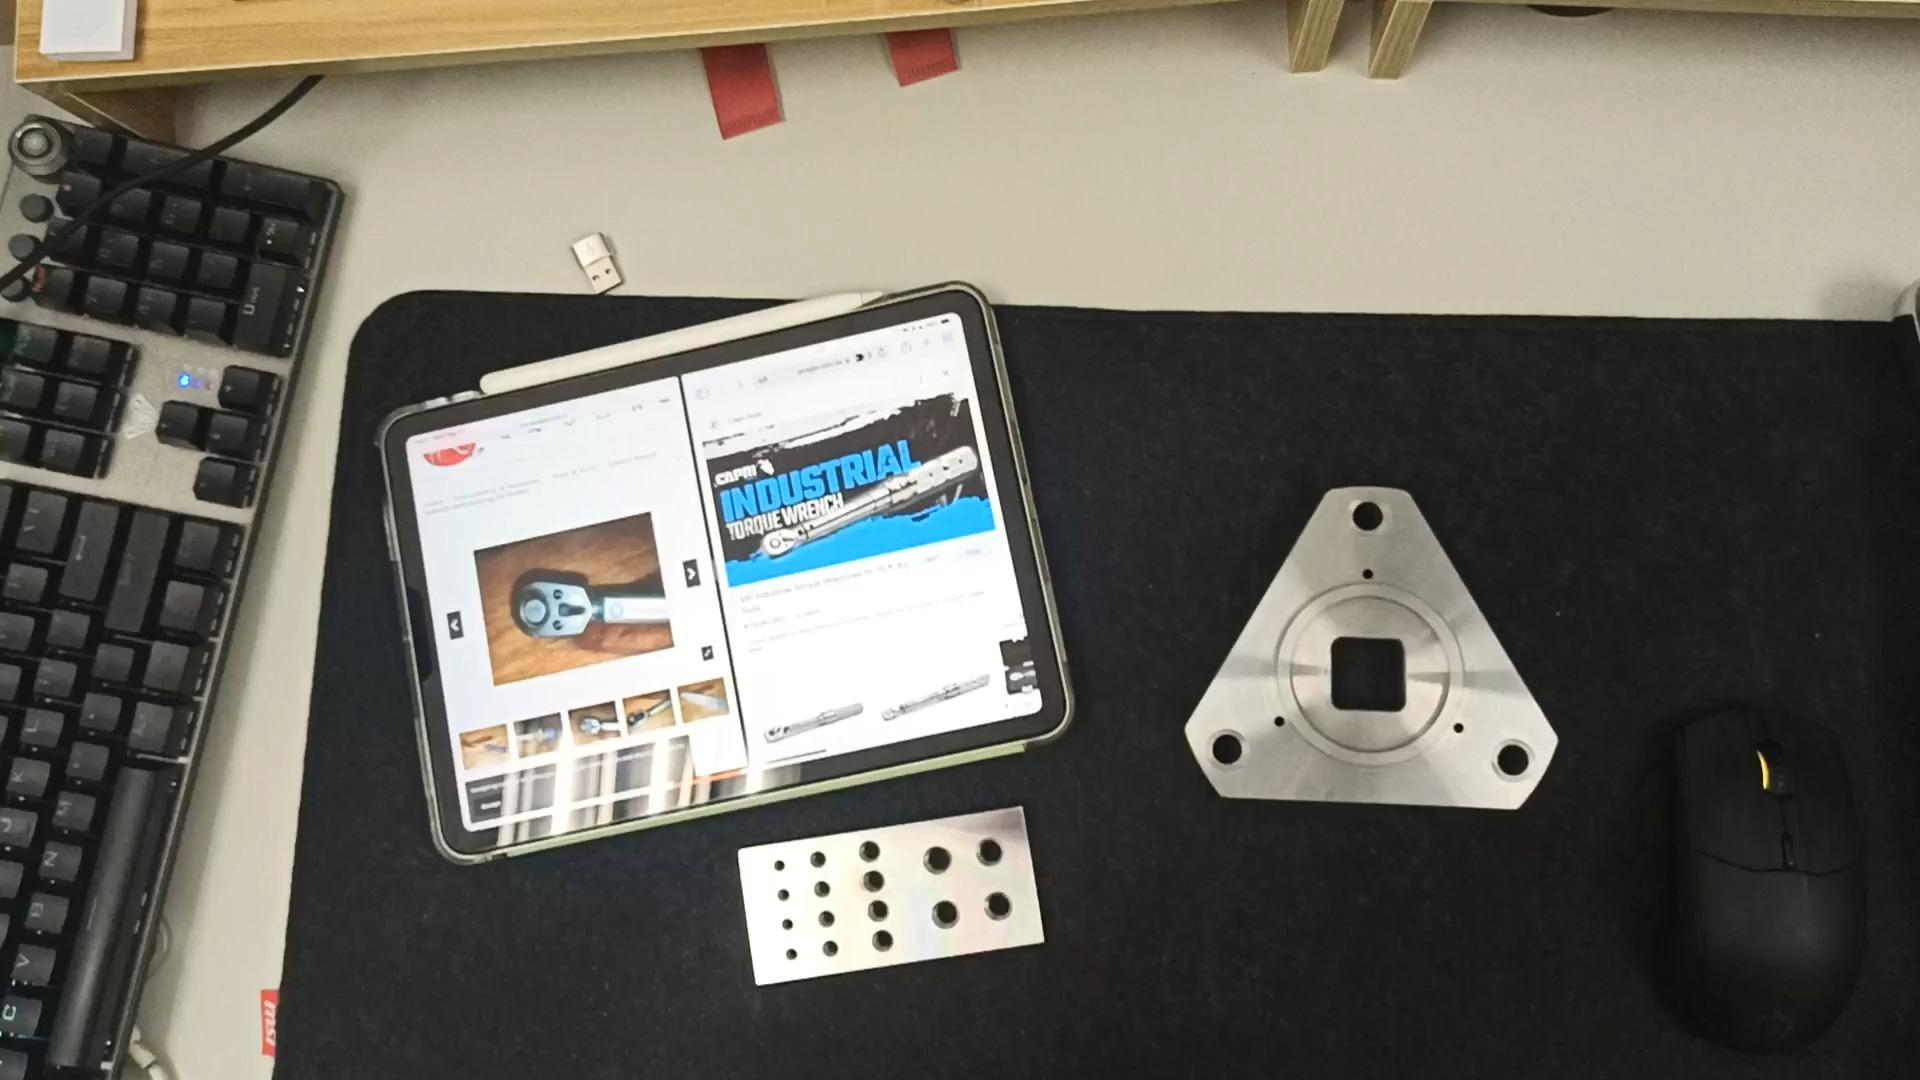Tool: (512, 579, 604, 644), (762, 525, 800, 554)
hole: (1476, 741, 1548, 793), (1341, 501, 1406, 545), (1199, 732, 1253, 774), (913, 898, 971, 936), (975, 890, 1029, 927), (906, 844, 961, 880), (967, 840, 1021, 874), (847, 841, 894, 870), (849, 869, 897, 897), (853, 902, 899, 930), (861, 932, 907, 957), (807, 909, 848, 931), (794, 853, 831, 873), (808, 878, 836, 903), (808, 942, 844, 960), (760, 858, 793, 877), (765, 887, 796, 905), (779, 945, 810, 963), (775, 920, 794, 936)
